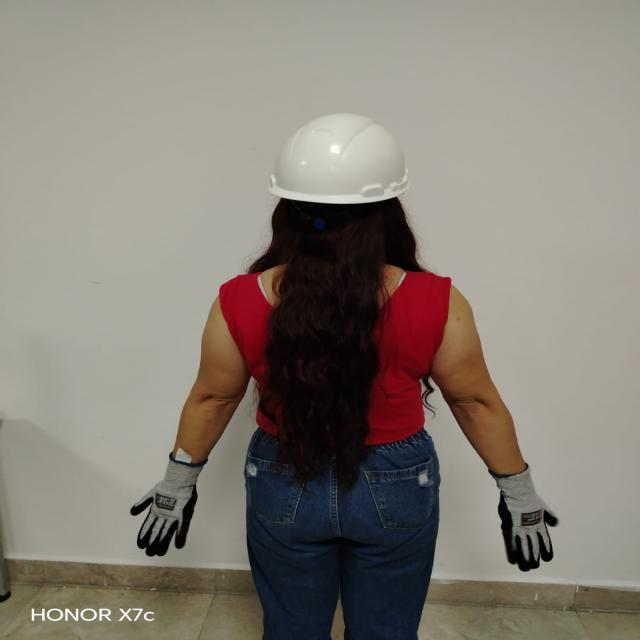gloves: (126, 451, 214, 561), (487, 461, 562, 573)
helmet: (266, 111, 413, 205)
